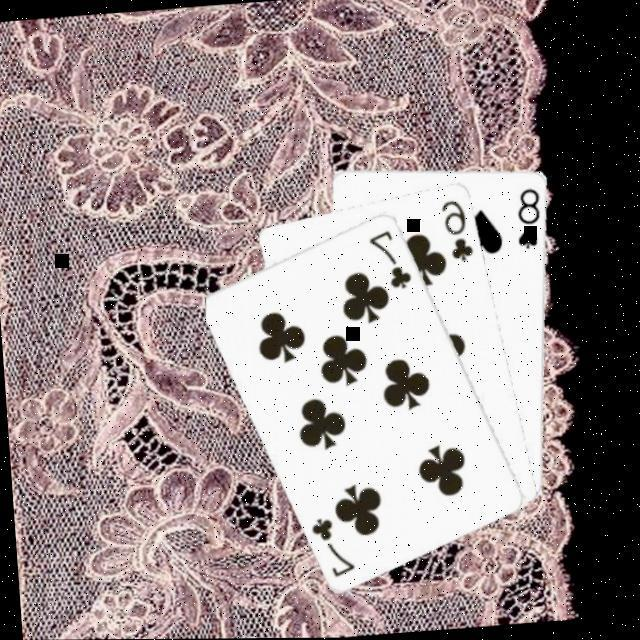6C: (434, 194, 475, 264)
7C: (304, 511, 356, 581), (362, 224, 413, 292)
8S: (509, 184, 544, 252)
